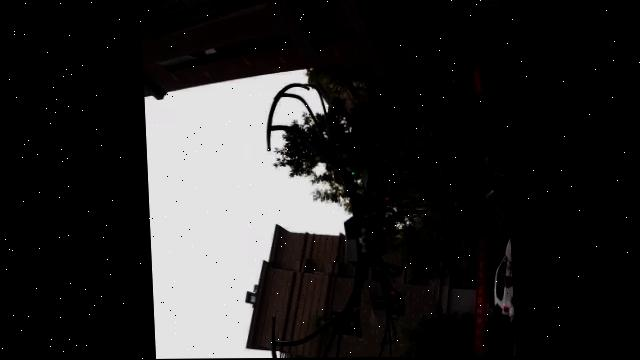drone: (249, 66, 422, 359)
